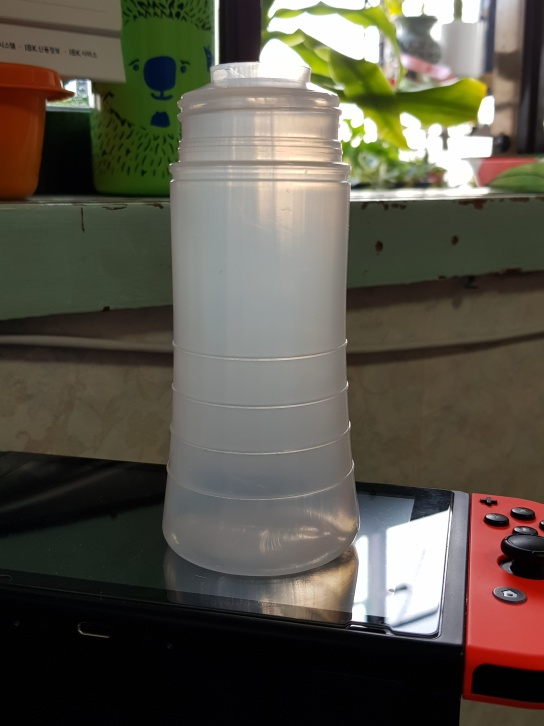Plastic: (161, 60, 363, 574)
